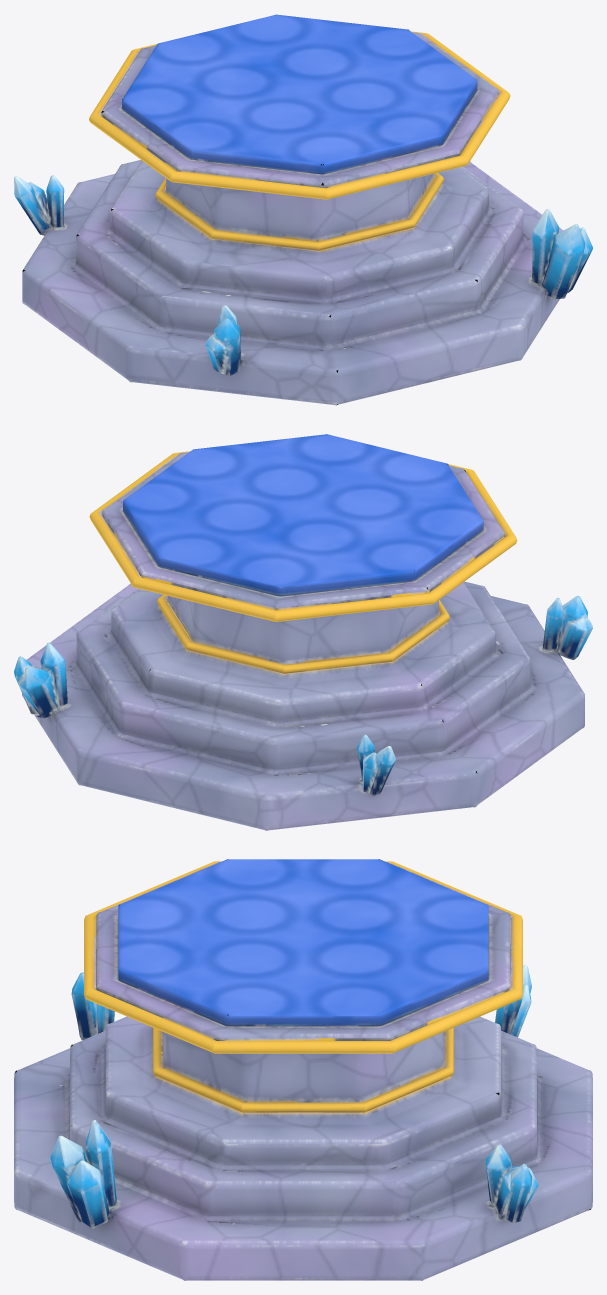
The model's file is PiedestalStylise.glb.
3 views of the same model, one above another, from view 1: azimuth 30°, elevation 25°; view 2: azimuth 150°, elevation 25°; view 3: azimuth 270°, elevation 25° (orthographic). The views are drawn at different scales.
Parts seen in each view (by area): view 1: PiedestalStylise; view 2: PiedestalStylise; view 3: PiedestalStylise.
Part boxes in pixels (x1=…): PiedestalStylise: x1=14, y1=14, x2=592, y2=405; PiedestalStylise: x1=14, y1=434, x2=592, y2=830; PiedestalStylise: x1=14, y1=859, x2=592, y2=1280.
Size of the model in its own units: 5.54 by 2.36 by 5.54.
Materials: 1 (1 with a texture image).
